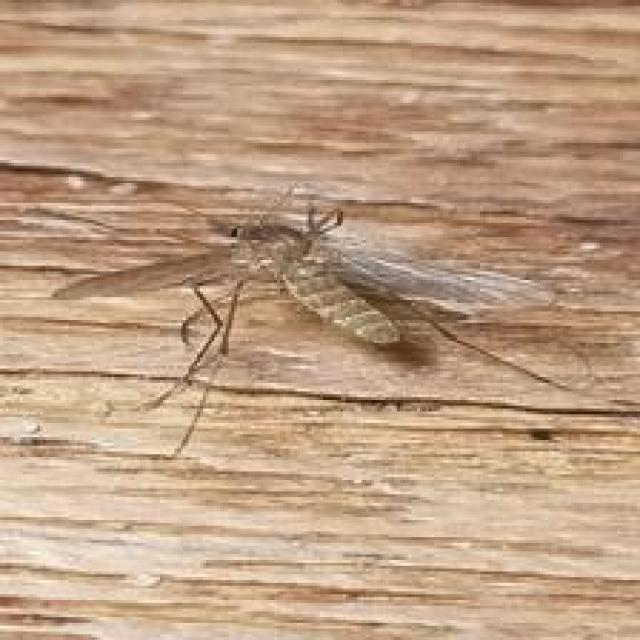Culex: (47, 182, 593, 462)
